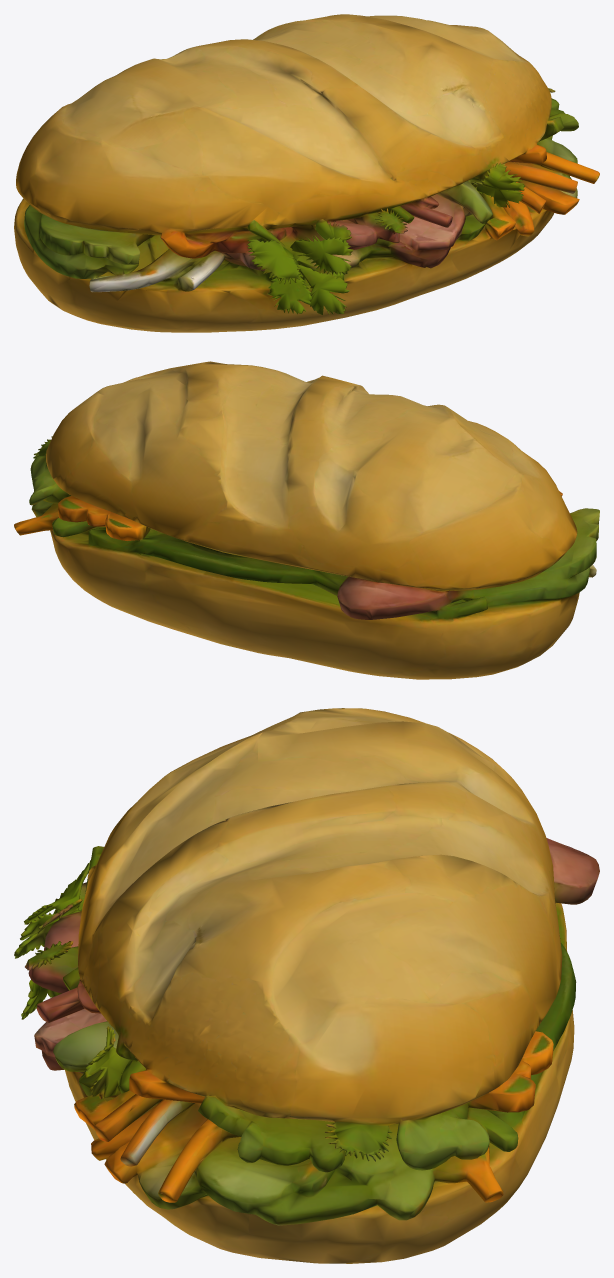
Rendered from BanhMi.glb.
The picture shows the model from 3 angles, top to bottom: view 1: azimuth 30°, elevation 25°; view 2: azimuth 150°, elevation 25°; view 3: azimuth 270°, elevation 25°; orthographic projection. The views are drawn at different scales.
Parts seen in each view (by area): view 1: Mesh_0; view 2: Mesh_0; view 3: Mesh_0.
Boxes of the visible parts, x1,y1,x2,y2 form: Mesh_0: (14,14,599,332); Mesh_0: (14,361,599,679); Mesh_0: (14,708,599,1263).
Size of the model in its own units: 1.19 by 0.4839 by 0.7797.
Materials: 1 (1 with a texture image).
